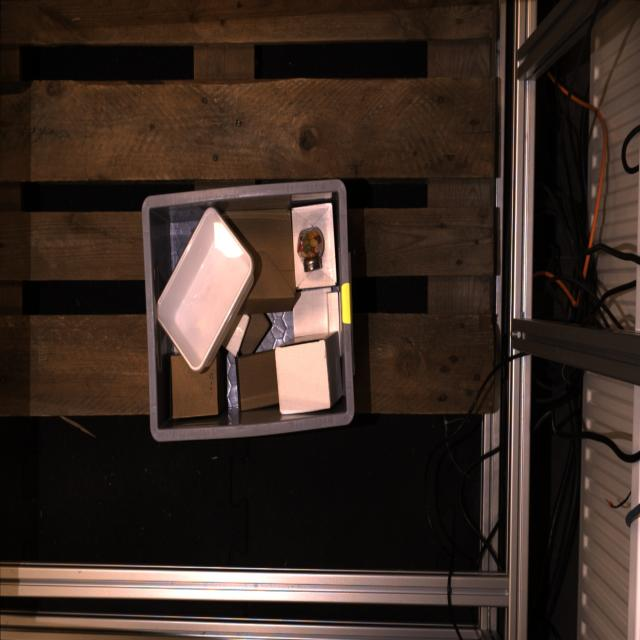CardboardBox: (223, 209, 295, 315), (275, 331, 342, 414), (292, 203, 336, 288), (171, 356, 221, 418), (238, 350, 278, 411), (293, 289, 329, 337), (240, 314, 271, 354), (225, 314, 250, 356), (327, 293, 340, 334)
PlasticContainer: (157, 208, 253, 372)
SweetsJar: (298, 227, 324, 271)
